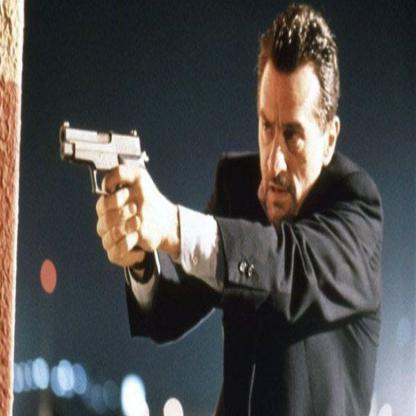Pistol: (54, 118, 150, 231)
